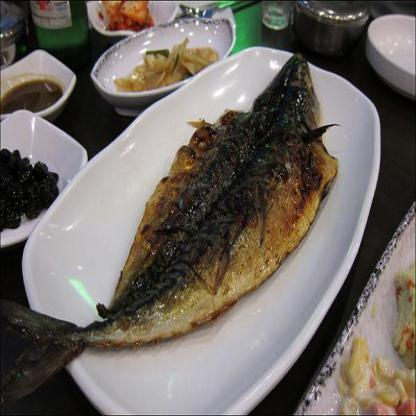Peixe: (0, 47, 345, 409)
